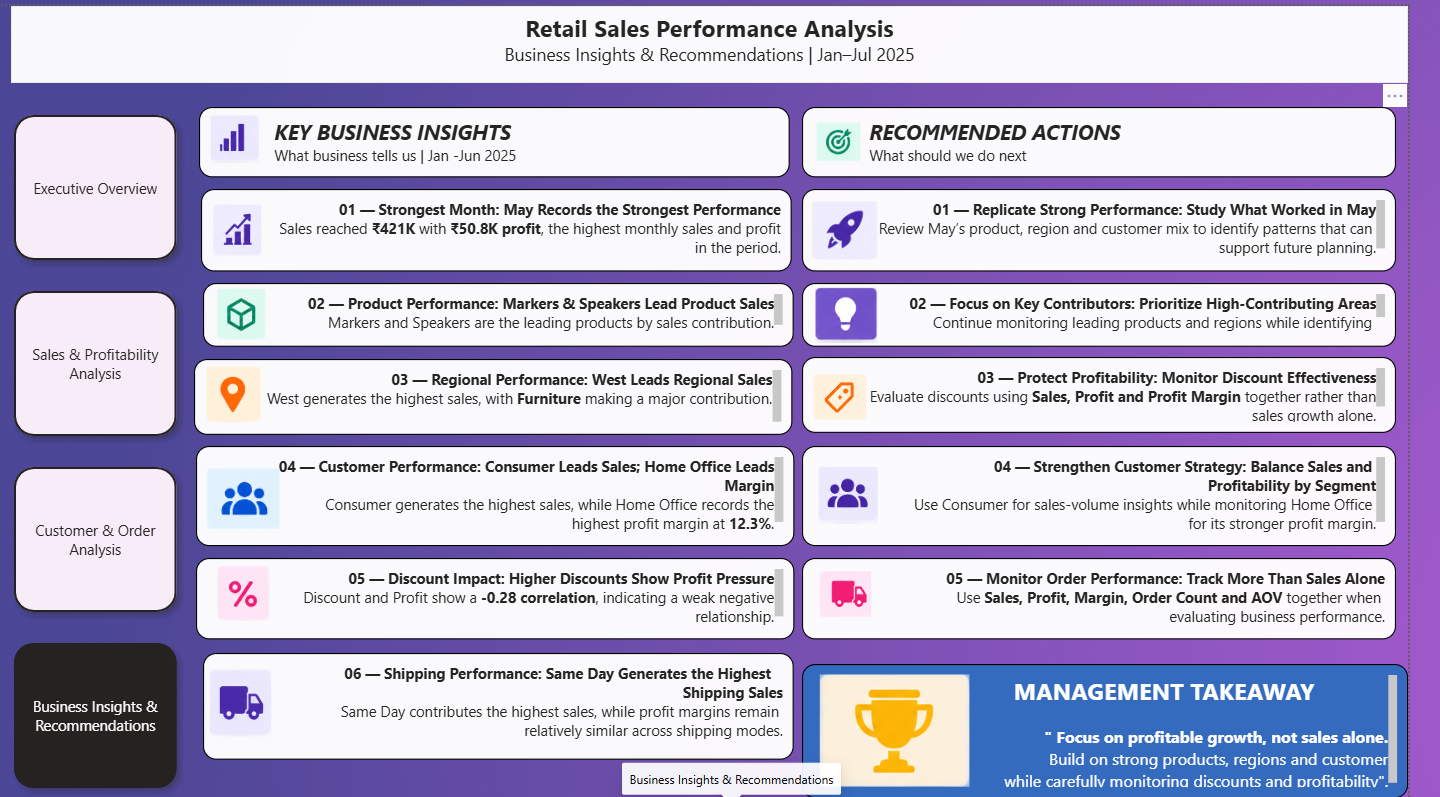

What the dashboard file says about the page in this screenshot:
{"tool":"powerbi","page":{"name":"Business Insights & Recommendations","canvas":[1280,720],"ordinal":3},"visuals":[{"type":"textbox","box":[10,0,1270,70],"z":1000},{"type":"pageNavigator","box":[4,70,166.4,650],"z":2000},{"type":"textbox","box":[180.9,91.8,537.3,63.6],"z":2500},{"type":"textbox","box":[729.1,251.8,540,58.2],"z":3001},{"type":"textbox","box":[182.7,166.4,537.3,75.5],"z":3002},{"type":"textbox","box":[184.5,251.8,537.3,58.2],"z":3003},{"type":"textbox","box":[729.1,91.8,540,63.6],"z":3004},{"type":"textbox","box":[184.5,588.2,537.3,97.3],"z":3005},{"type":"textbox","box":[176.4,320.9,543.6,69.1],"z":3006},{"type":"textbox","box":[178.2,400,543.6,90.9],"z":3007},{"type":"textbox","box":[178.2,501.8,543.6,73.6],"z":3008},{"type":"image","box":[119.1,415.5,204.5,64.5],"z":3009},{"type":"textbox","box":[729.1,501.8,540,73.6],"z":3010},{"type":"textbox","box":[729.1,400,540,90.9],"z":3011},{"type":"textbox","box":[729.1,166.4,540,75.5],"z":3012},{"type":"textbox","box":[729.1,319.1,540,69.1],"z":3013},{"type":"textbox","box":[729.1,598.2,550.9,121.8],"z":3014},{"type":"image","box":[188.2,251.8,61.8,57.3],"z":3015},{"type":"image","box":[181.8,322.7,60.9,60.9],"z":3016},{"type":"image","box":[734.5,330,58.2,50.9],"z":3017},{"type":"image","box":[737.3,100,50,47.3],"z":3018},{"type":"image","box":[739.1,503.6,58.2,61.8],"z":3019},{"type":"image","box":[732.7,165.5,70,76.4],"z":3020},{"type":"image","box":[184.5,94.5,58.2,52.7],"z":3022},{"type":"image","box":[192.7,489.1,57.3,90.9],"z":3023},{"type":"image","box":[183.6,598.2,70,70.9],"z":3024},{"type":"image","box":[184.5,175.5,61.8,57.3],"z":3025},{"type":"image","box":[736.4,247.3,66.4,67.3],"z":3026},{"type":"image","box":[739.1,410,63.6,70],"z":3027},{"type":"image","box":[737.3,602.7,151.8,111.8],"z":3028}]}

Visuals, with their boxes in screenshot pixels (x1, y1, x2, y2), scaled from the page's 1280x720 canvas onto the 1440x797 screenshot:
textbox: bbox(11, 0, 1439, 77)
pageNavigator: bbox(4, 77, 192, 796)
textbox: bbox(204, 102, 808, 172)
textbox: bbox(820, 279, 1428, 343)
textbox: bbox(206, 184, 810, 268)
textbox: bbox(208, 279, 812, 343)
textbox: bbox(820, 102, 1428, 172)
textbox: bbox(208, 651, 812, 759)
textbox: bbox(198, 355, 810, 432)
textbox: bbox(200, 443, 812, 543)
textbox: bbox(200, 555, 812, 637)
image: bbox(134, 460, 364, 531)
textbox: bbox(820, 555, 1428, 637)
textbox: bbox(820, 443, 1428, 543)
textbox: bbox(820, 184, 1428, 268)
textbox: bbox(820, 353, 1428, 430)
textbox: bbox(820, 662, 1439, 796)
image: bbox(212, 279, 281, 342)
image: bbox(205, 357, 273, 425)
image: bbox(826, 365, 892, 422)
image: bbox(829, 111, 886, 163)
image: bbox(831, 557, 897, 626)
image: bbox(824, 183, 903, 268)
image: bbox(208, 105, 273, 163)
image: bbox(217, 541, 281, 642)
image: bbox(207, 662, 285, 741)
image: bbox(208, 194, 277, 258)
image: bbox(828, 274, 903, 348)
image: bbox(831, 454, 903, 531)
image: bbox(829, 667, 1000, 791)
